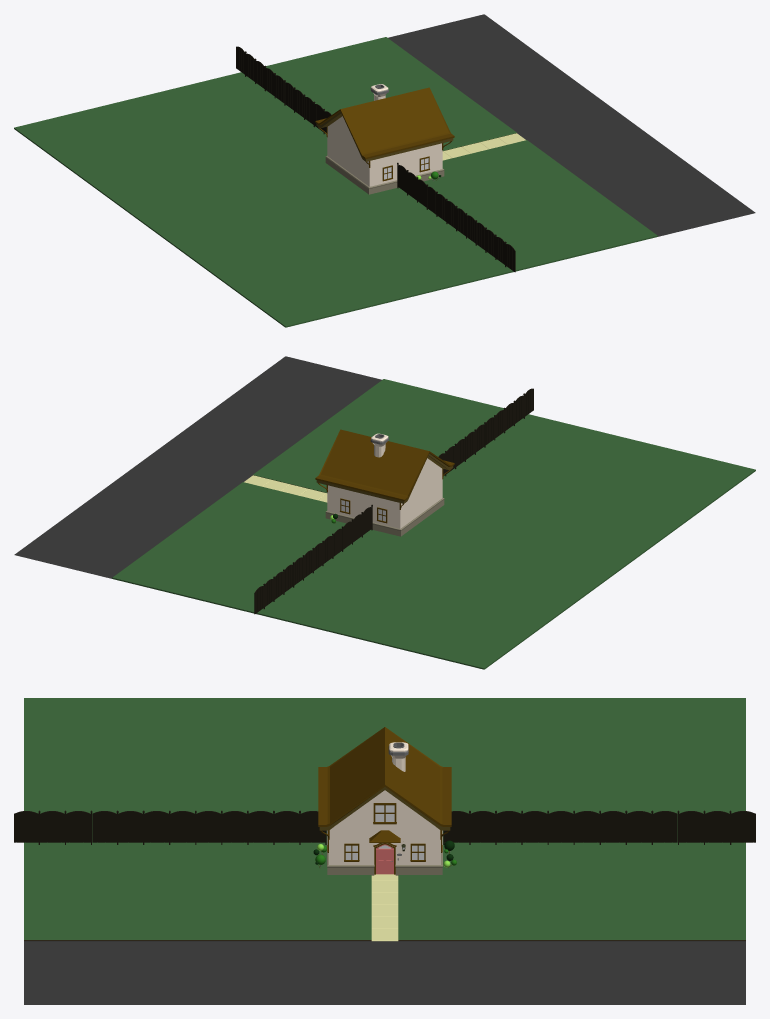
Rendered from TP_Yard.fbx.
The picture shows the model from 3 angles, top to bottom: view 1: azimuth 30°, elevation 25°; view 2: azimuth 150°, elevation 25°; view 3: azimuth 270°, elevation 25°; orthographic projection. The views are drawn at different scales.
Visible parts, largest first — view 1: floor, roof, fence, house_base; view 2: floor, roof, fence, house_base; view 3: floor, fence, roof, house_base, windows, door.
Part boxes in pixels (x1,y1,x2,y2): floor: (14,14,755,327); roof: (315,87,454,161); fence: (236,46,515,272); house_base: (325,116,444,194); floor: (14,356,755,669); roof: (315,429,454,503); fence: (254,388,533,614); house_base: (325,458,444,536); floor: (24,698,745,1004); fence: (14,810,755,844); roof: (318,727,451,830); house_base: (327,790,442,875); windows: (327,803,442,861); door: (376,844,393,874).
Bounding box in the file's own units: 3353 × 550 × 3445.
